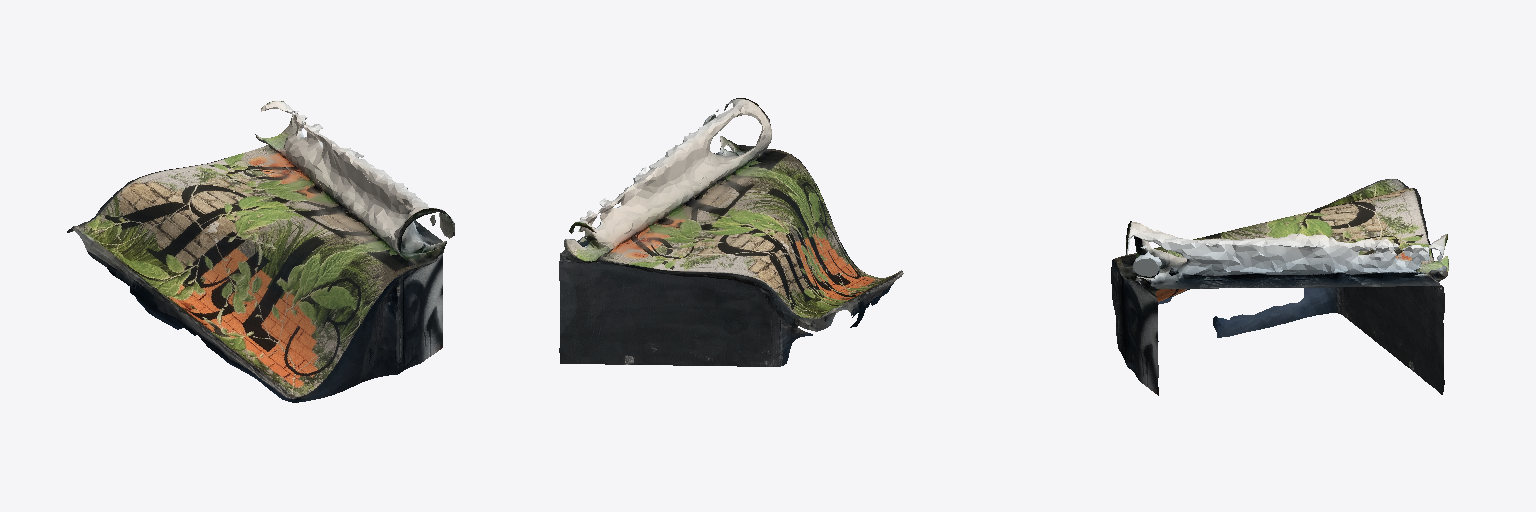
The picture shows the model from 3 angles: view 1: azimuth 30°, elevation 25°; view 2: azimuth 150°, elevation 25°; view 3: azimuth 270°, elevation 25°; orthographic projection.
Visible parts, largest first — view 1: grp1; view 2: grp1; view 3: grp1.
Boxes of the visible parts, <box> form: grp1: <box>67,101,454,402</box>; grp1: <box>559,98,903,366</box>; grp1: <box>1111,179,1448,395</box>.
Size of the model in its own units: 1.32 by 0.7834 by 1.53.
1 materials, 1 textured.